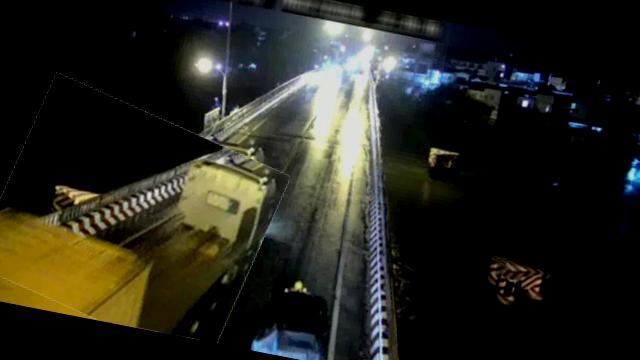Truck: (0, 77, 289, 348)
